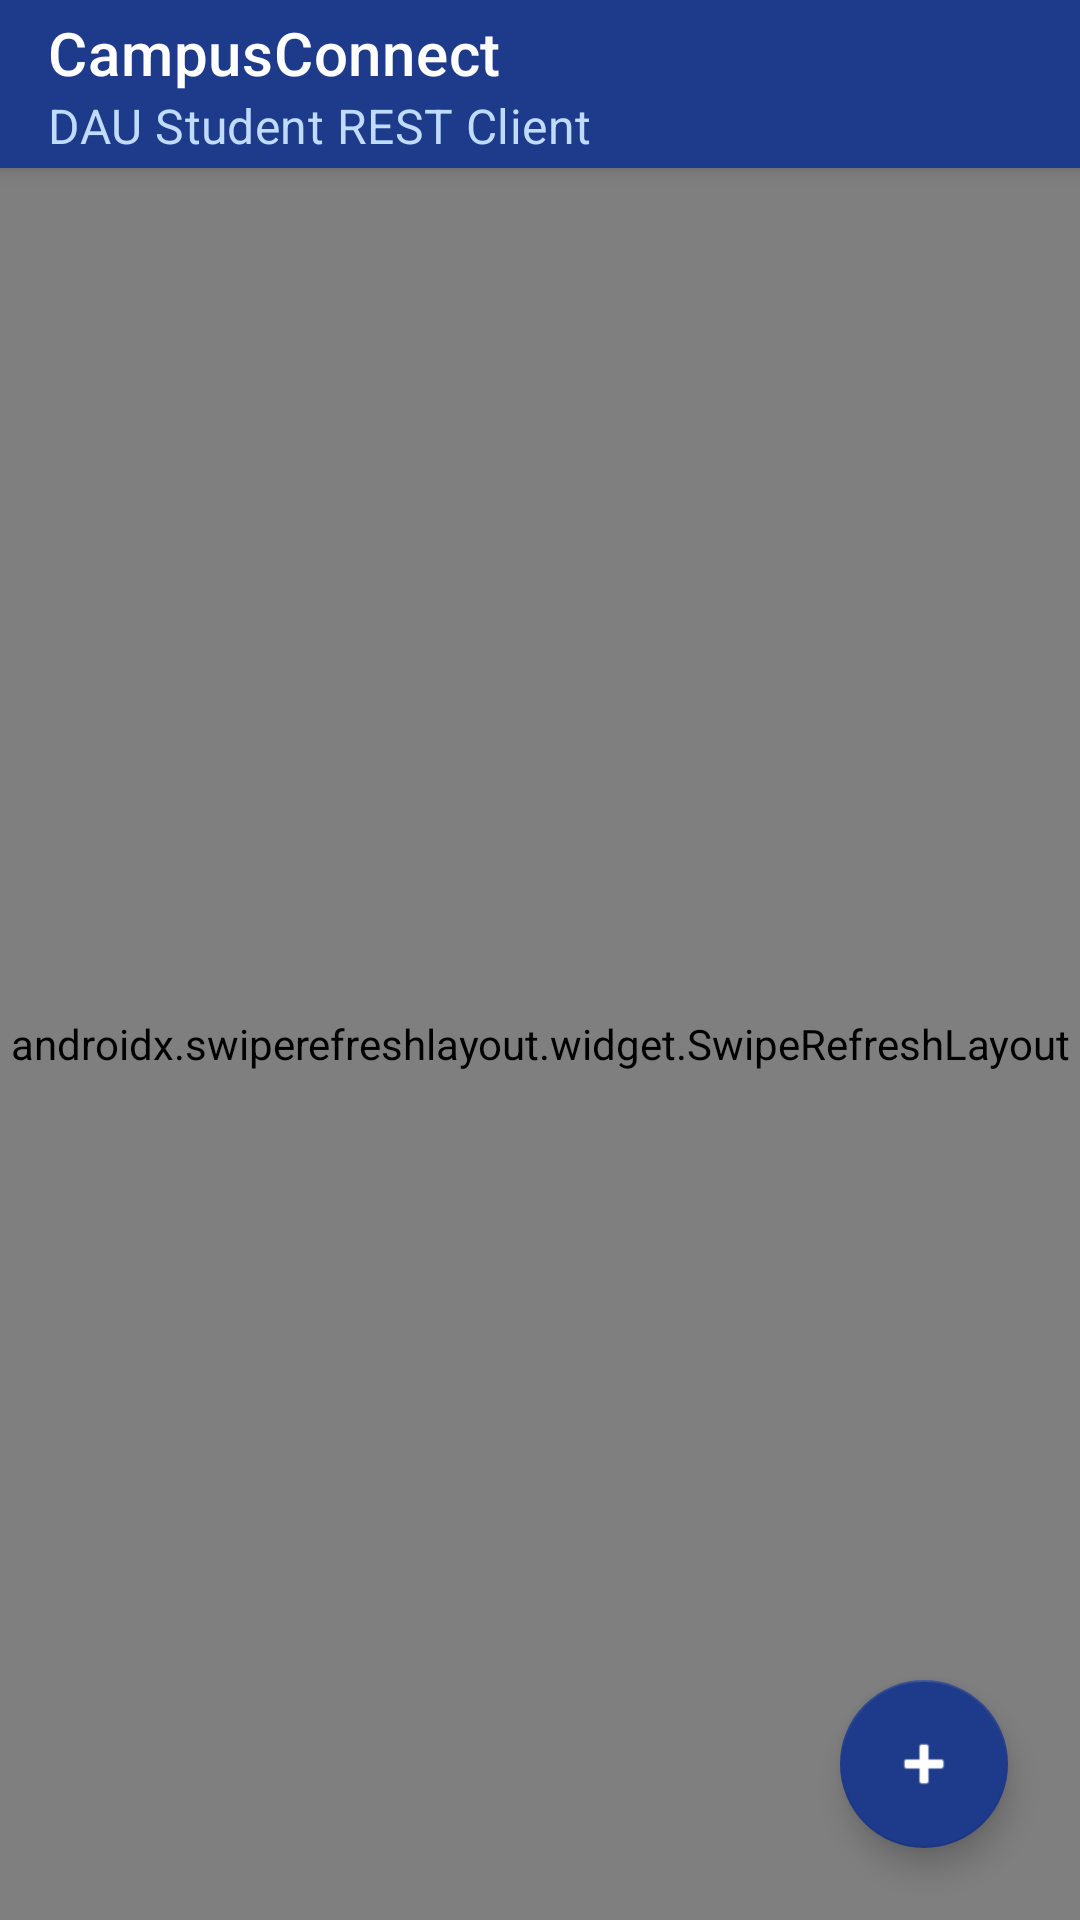

Where to tap for icons on this 1080 x 1920 app screen, as [x,y]:
Register Student: [924,1764]
